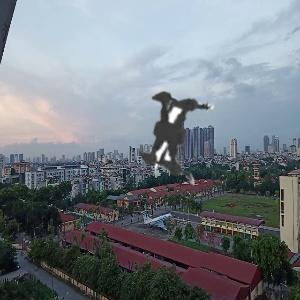drone: (33, 9, 298, 274)
